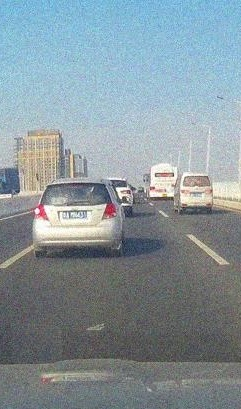L_light: (33, 204, 50, 222), (181, 190, 189, 194)
R_light: (102, 202, 117, 220), (204, 189, 212, 193)
T_light: (68, 183, 80, 186), (193, 176, 199, 178)
day-left: (33, 177, 121, 257)
day-no: (180, 172, 213, 215)
